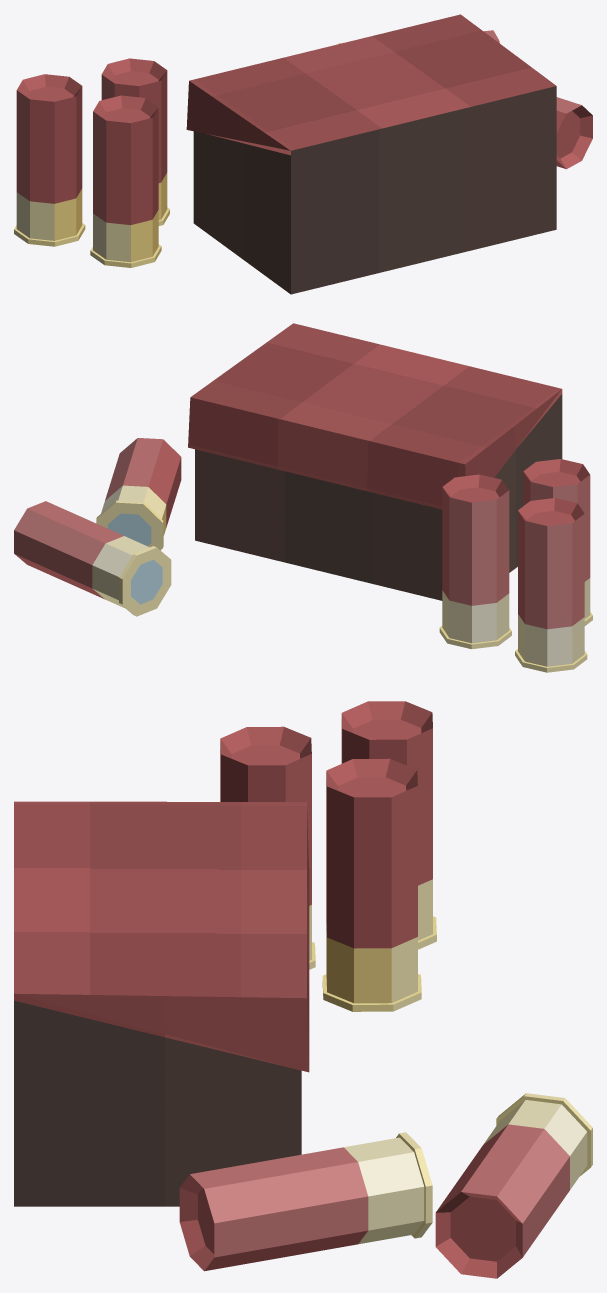
The model's file is ShotgunAmmo.gltf.
3 renders of one model, top to bottom at view 1: azimuth 30°, elevation 25°; view 2: azimuth 150°, elevation 25°; view 3: azimuth 270°, elevation 25°, orthographic. The views are drawn at different scales.
Parts seen in each view (by area): view 1: cuboid, Shell (×4); view 2: cuboid, Shell (×5); view 3: cuboid, Shell (×5).
Boxes of the visible parts, box(x1,y1,x2,y2) form: cuboid: box(186, 14, 556, 294); Shell (×4): box(14, 58, 592, 267); cuboid: box(188, 323, 562, 600); Shell (×5): box(14, 438, 592, 672); cuboid: box(14, 801, 309, 1206); Shell (×5): box(179, 701, 592, 1278).
Bounding box in the file's own units: 0.3628 × 0.0984 × 0.2389.
1 material, 1 textured.
